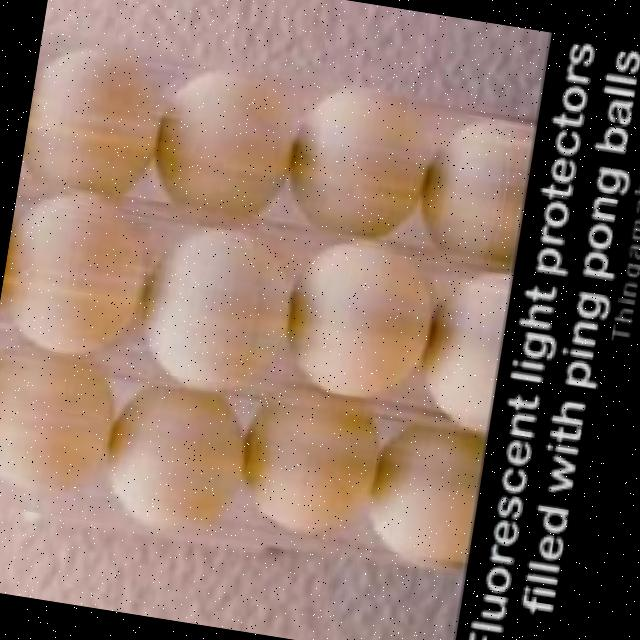ping-pong-ball: (124, 215, 297, 398), (276, 234, 440, 415), (277, 78, 441, 248), (0, 185, 151, 362), (18, 35, 172, 201), (98, 374, 250, 542), (147, 58, 302, 222), (234, 384, 392, 540), (362, 408, 482, 576), (409, 109, 536, 264), (0, 340, 122, 501), (409, 258, 508, 429)
